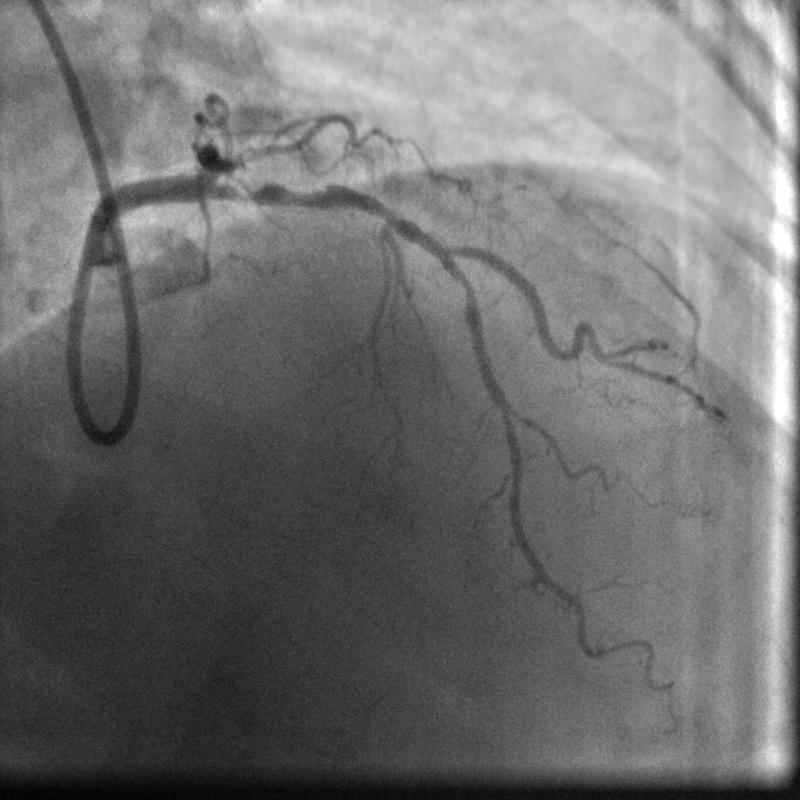Stenosis: (232, 171, 334, 206)
